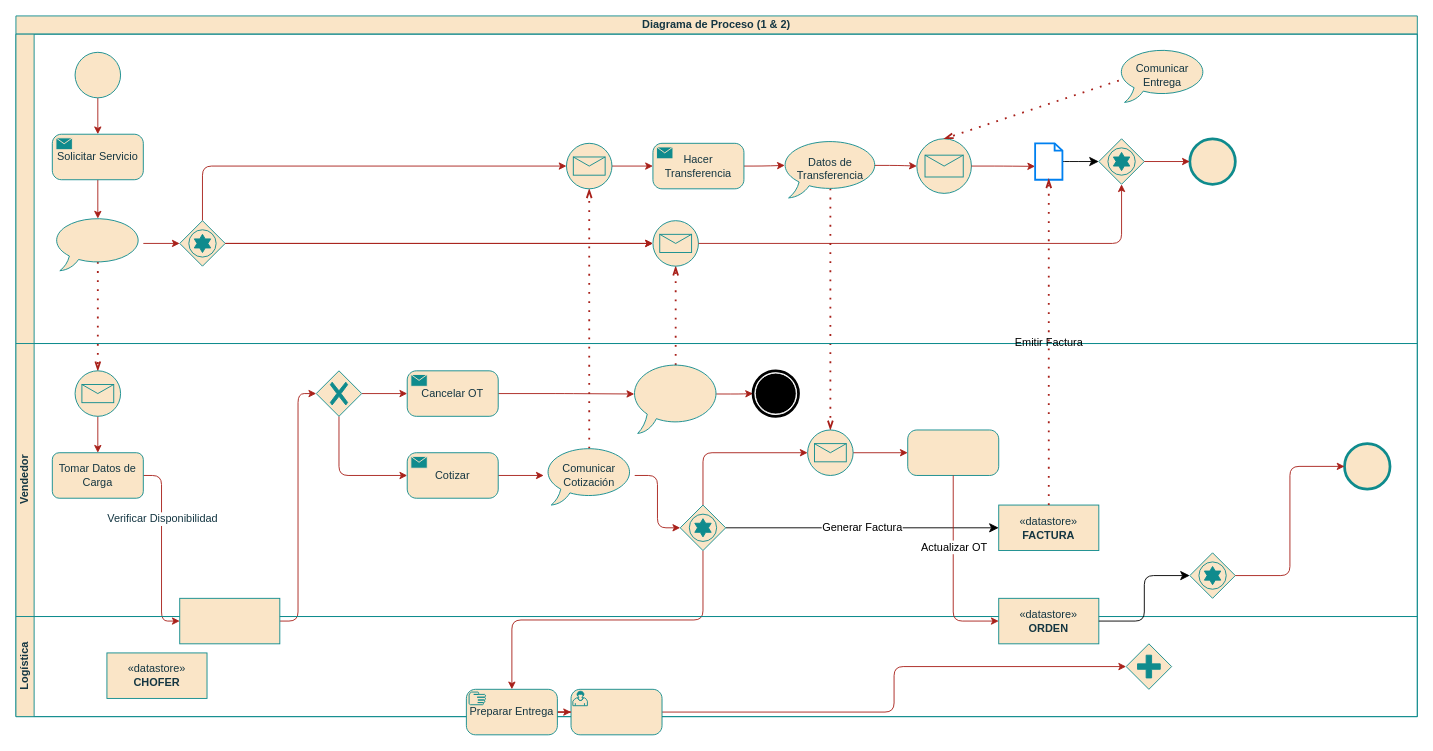
The diagram is 1433 pixels wide and 751 high, and some of its shapes have lost their labels. Each missing label, with the box of its shape:
Cliente: (15, 33, 1417, 344)
Comunicar Rechazo: (629, 361, 721, 433)
Datos de Carga: (51, 215, 143, 271)
Factura: (1034, 142, 1063, 180)
Hacer Entrega: (570, 688, 662, 735)
Validar Pago: (907, 429, 999, 475)
«datastore» CAMIÓN: (179, 597, 280, 644)
